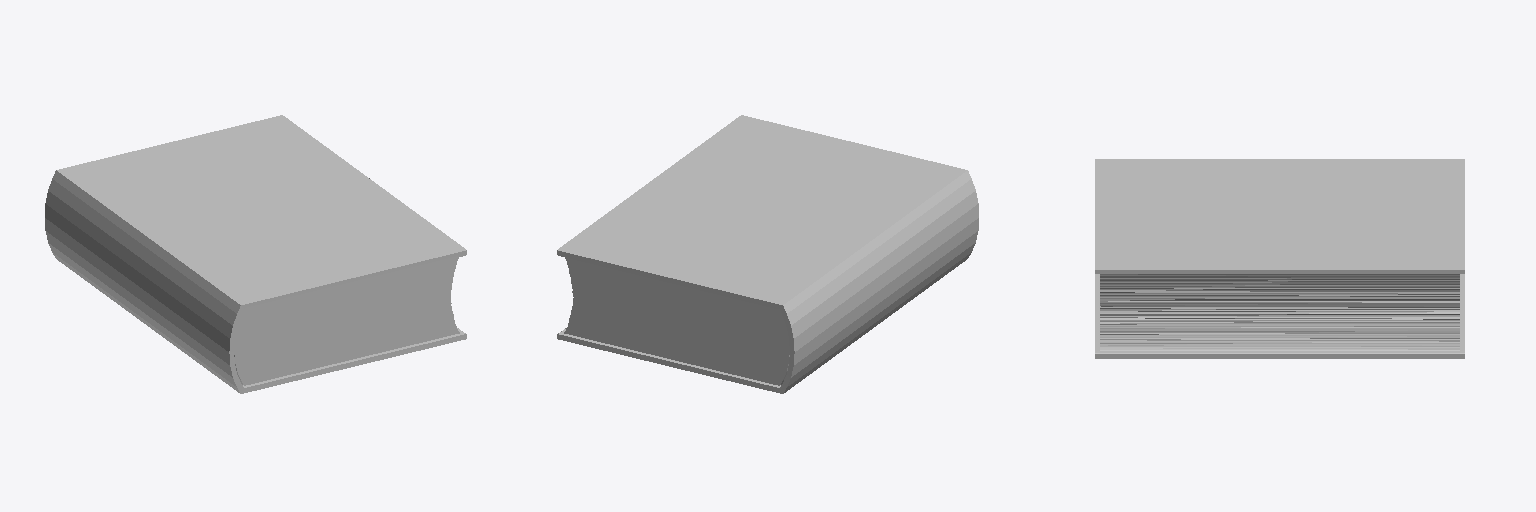
The model's file is Book.obj.
3 renders of one model, left to right at view 1: azimuth 30°, elevation 25°; view 2: azimuth 150°, elevation 25°; view 3: azimuth 270°, elevation 25°, orthographic.
Visible parts, largest first — view 1: Book; view 2: Book; view 3: Book.
Part boxes in pixels (x1,y1,x2,y2): Book: (45,115,466,393); Book: (557,115,978,393); Book: (1095,159,1464,358).
Bounding box in the file's own units: 3.43 × 1.22 × 4.62.